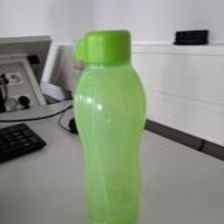bottle: (69, 24, 148, 224)
